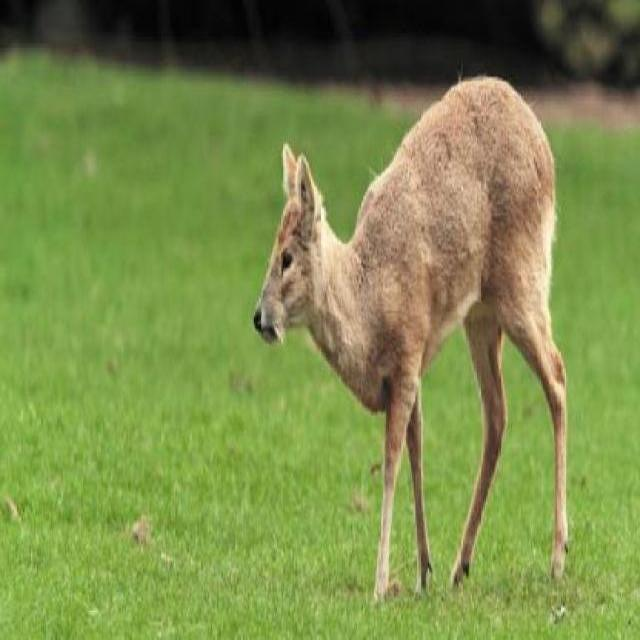deer: (250, 63, 572, 596)
